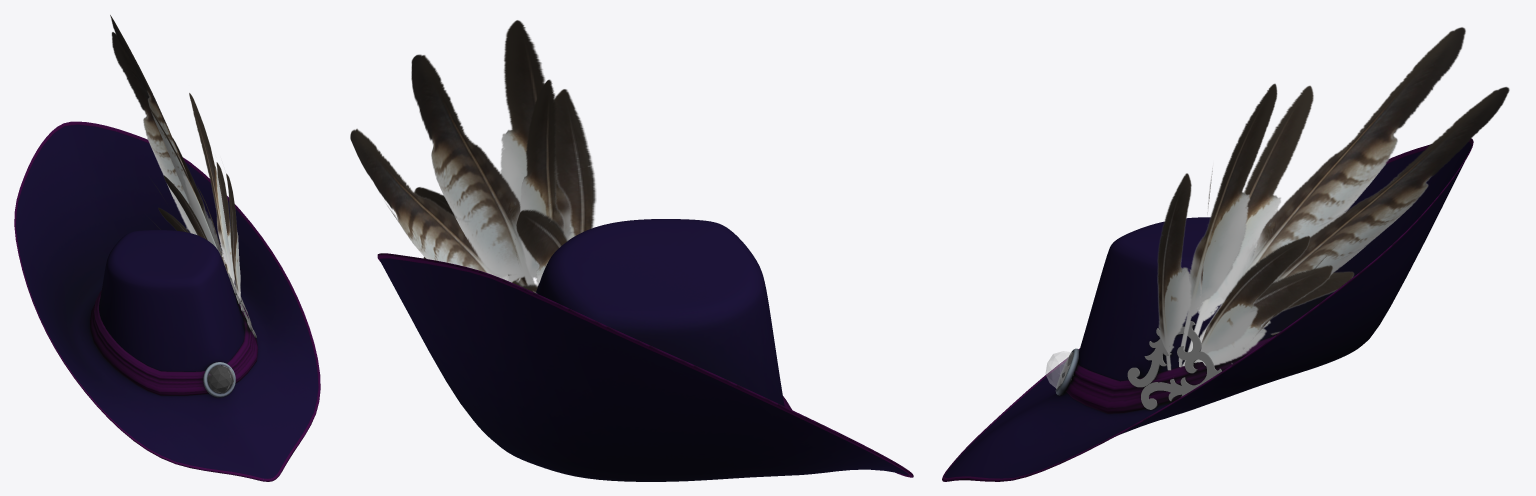
The model's file is victorian_abigail_hat.glb.
3 views of the same model, side by side, from view 1: azimuth 30°, elevation 25°; view 2: azimuth 150°, elevation 25°; view 3: azimuth 270°, elevation 25° (orthographic). The views are drawn at different scales.
Parts seen in each view (by area): view 1: Object_5, Object_4, Object_2; view 2: Object_5, Object_4; view 3: Object_5, Object_4, Object_3, Object_2.
Part boxes in pixels (left/top/right/bottom): Object_5: left=14, top=121, right=320, bottom=481; Object_4: left=110, top=15, right=241, bottom=310; Object_2: left=207, top=365, right=233, bottom=392; Object_5: left=377, top=219, right=913, bottom=481; Object_4: left=350, top=20, right=596, bottom=293; Object_5: left=942, top=138, right=1473, bottom=481; Object_4: left=1157, top=27, right=1509, bottom=370; Object_3: left=1127, top=321, right=1221, bottom=409; Object_2: left=1045, top=351, right=1073, bottom=388.
Size of the model in its own units: 17.62 by 24.63 by 27.24.
Materials: 4 (2 with a texture image).
